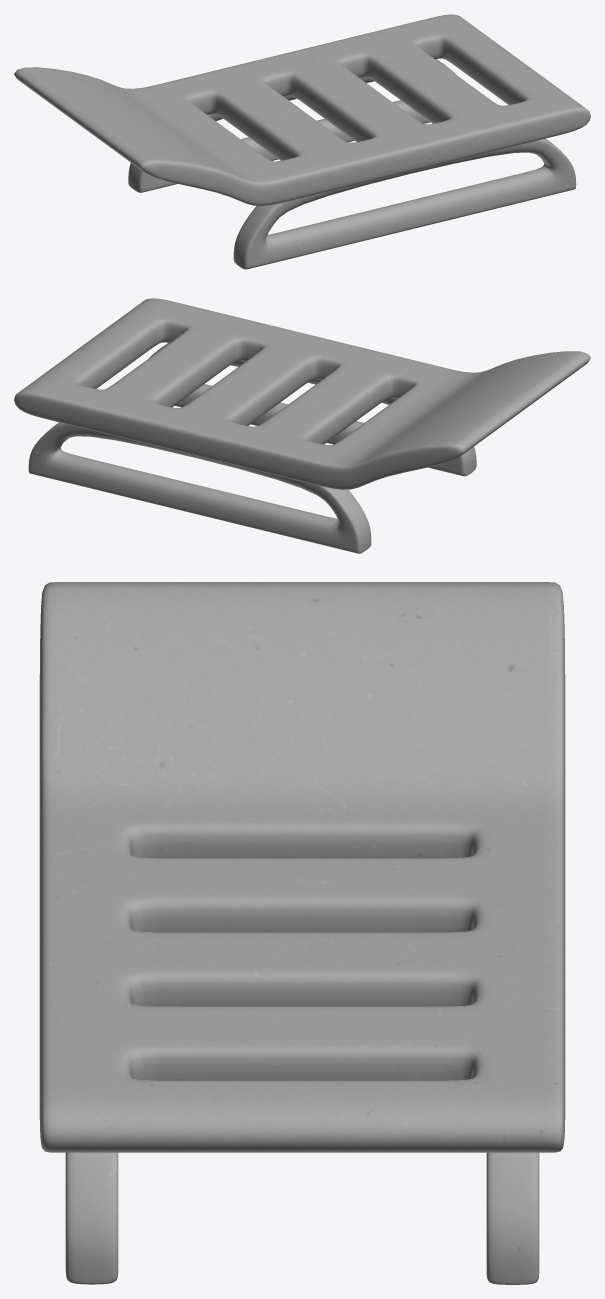
File: hamaca.fbx
3 views of the same model, one above another, from view 1: azimuth 30°, elevation 25°; view 2: azimuth 150°, elevation 25°; view 3: azimuth 270°, elevation 25° (orthographic). The views are drawn at different scales.
Parts seen in each view (by area): view 1: hamaca; view 2: hamaca; view 3: hamaca.
Boxes of the visible parts, x1,y1,x2,y2 form: hamaca: [14, 14, 590, 269]; hamaca: [14, 298, 590, 553]; hamaca: [39, 582, 565, 1284].
Bounding box in the file's own units: 395 × 116 × 200.
1 material, 1 textured.
